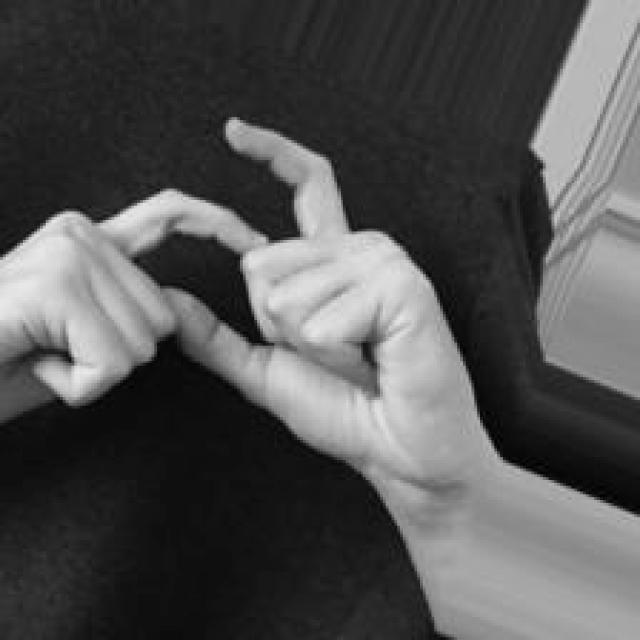G: (5, 105, 486, 487)
